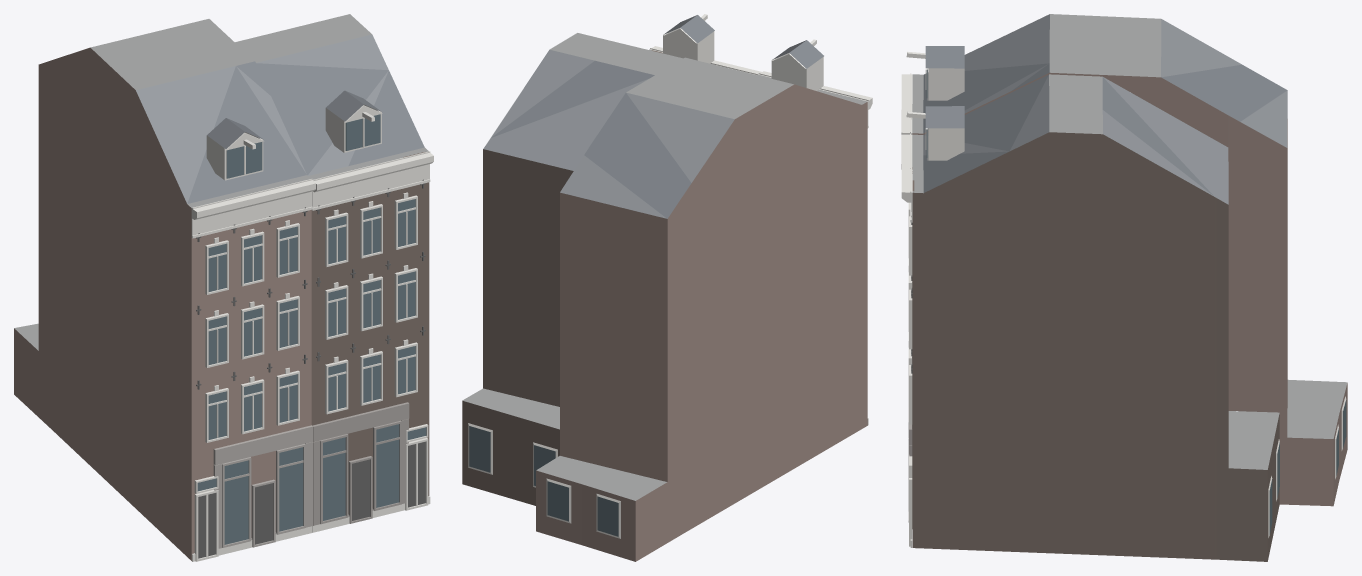
The model's file is chunk-face-helst-66-82-r1.glb.
The picture shows the model from 3 angles, left to right: view 1: azimuth 30°, elevation 25°; view 2: azimuth 150°, elevation 25°; view 3: azimuth 270°, elevation 25°; orthographic projection. The views are drawn at different scales.
Visible parts, largest first — view 1: face-helst-66-82-r1; view 2: face-helst-66-82-r1; view 3: face-helst-66-82-r1.
Part boxes in pixels (x1,y1,x2,y2): face-helst-66-82-r1: (14,14,433,561); face-helst-66-82-r1: (462,14,872,561); face-helst-66-82-r1: (901,14,1347,561).
Size of the model in its own units: 11.32 by 17.02 by 16.29.
